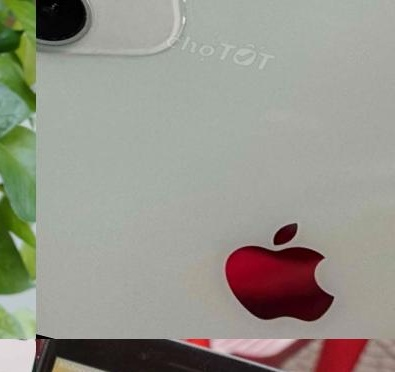scratch: (36, 339, 64, 358)
